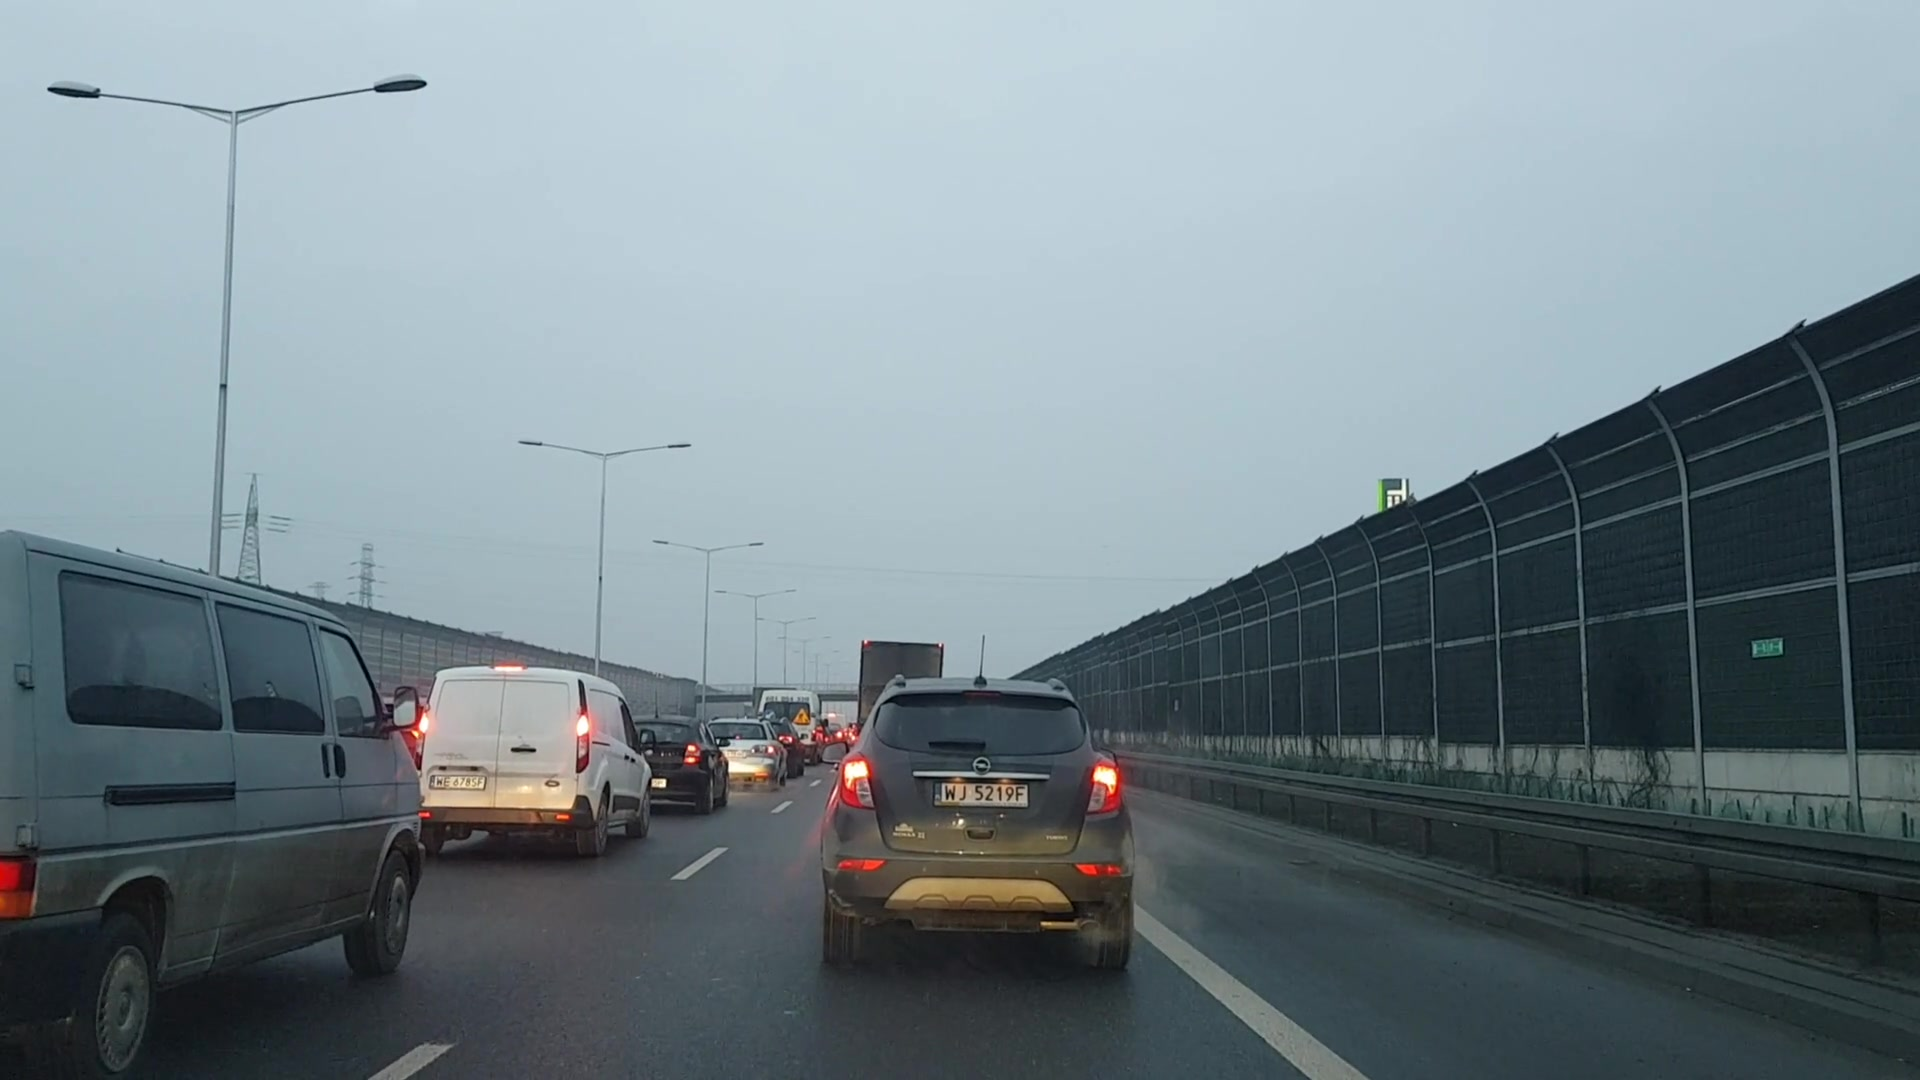car: (1, 527, 435, 1073), (819, 667, 1146, 986), (419, 663, 651, 864), (647, 711, 725, 825), (733, 709, 789, 795)
